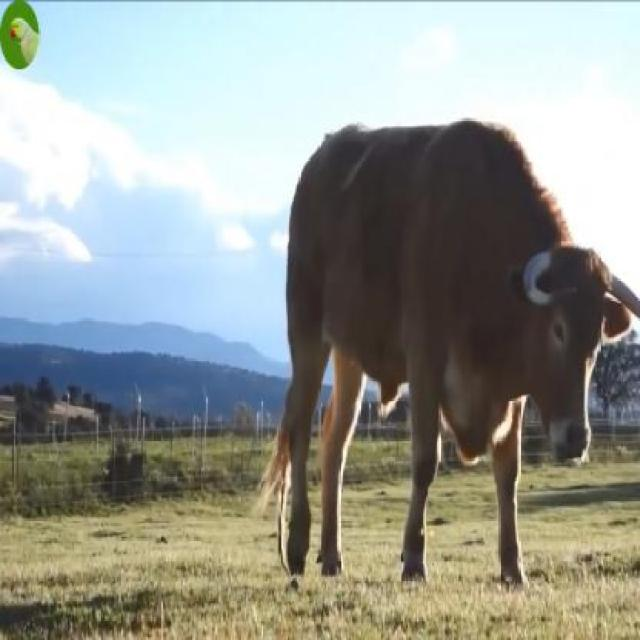Cow: (283, 117, 639, 588)
